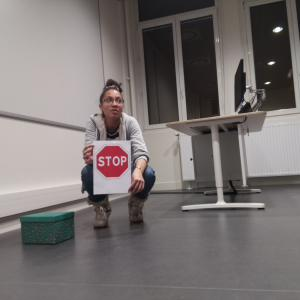stop: (95, 145, 130, 179)
